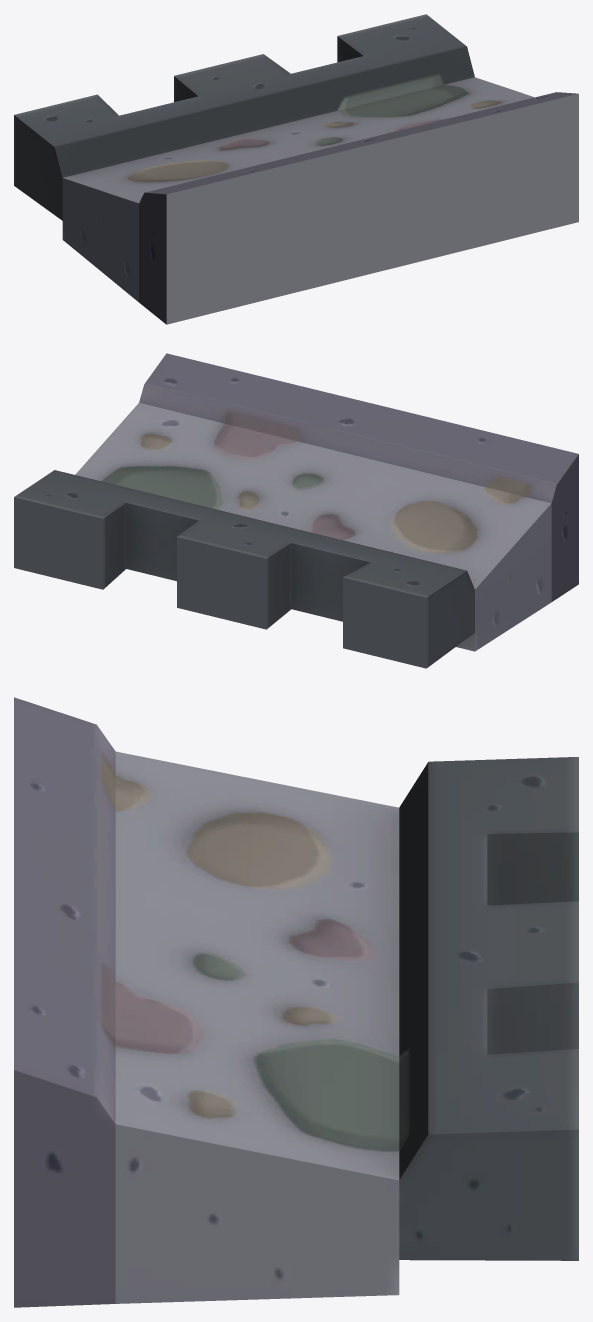
The model's file is CastleWall.fbx.
The picture shows the model from 3 angles, top to bottom: view 1: azimuth 30°, elevation 25°; view 2: azimuth 150°, elevation 25°; view 3: azimuth 270°, elevation 25°; orthographic projection. The views are drawn at different scales.
Visible parts, largest first — view 1: CastleWall; view 2: CastleWall; view 3: CastleWall.
Part boxes in pixels (x1,y1,x2,y2): CastleWall: (14,14,578,324); CastleWall: (14,353,578,668); CastleWall: (14,697,578,1307).
Bounding box in the file's own units: 377 × 114 × 241.
